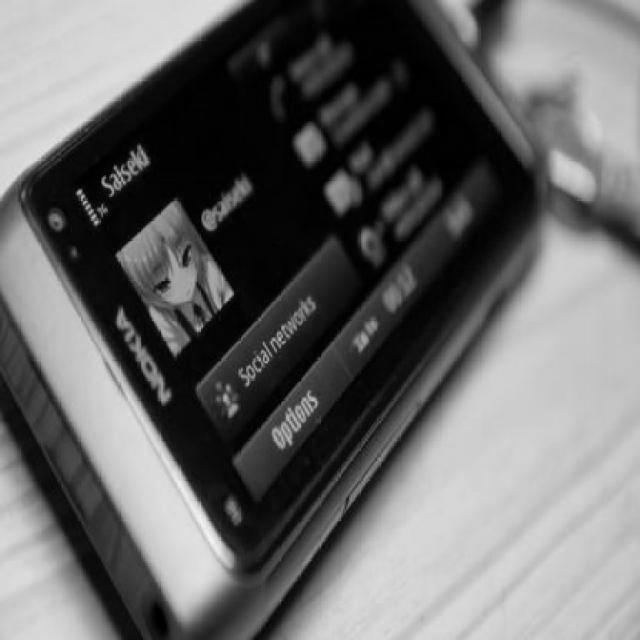fake: (0, 4, 574, 630)
